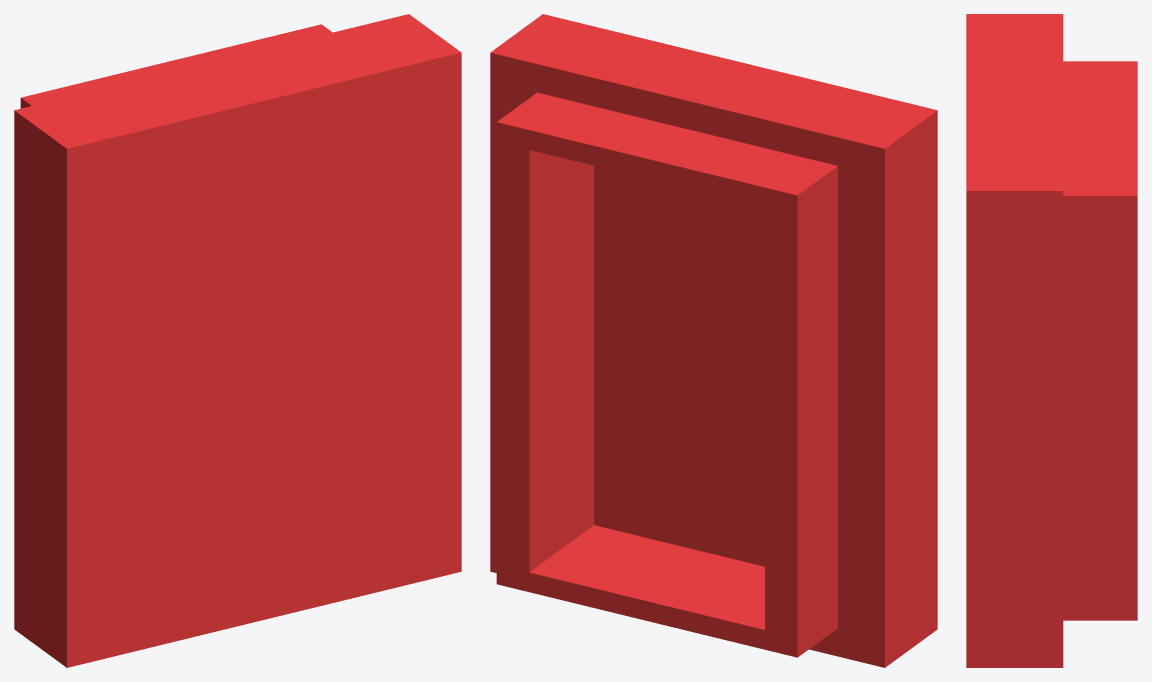
File: Itr_Obj_Fridge1_Bottom_Door_Right_03.FBX
3 renders of one model, left to right at view 1: azimuth 30°, elevation 25°; view 2: azimuth 150°, elevation 25°; view 3: azimuth 270°, elevation 25°, orthographic. The views are drawn at different scales.
Visible parts, largest first — view 1: Itr_Obj_Fridge1_Bottom_Door_Right_03; view 2: Itr_Obj_Fridge1_Bottom_Door_Right_03; view 3: Itr_Obj_Fridge1_Bottom_Door_Right_03.
Boxes of the visible parts, bbox=[...] form: Itr_Obj_Fridge1_Bottom_Door_Right_03: bbox=[14, 14, 461, 667]; Itr_Obj_Fridge1_Bottom_Door_Right_03: bbox=[490, 14, 937, 667]; Itr_Obj_Fridge1_Bottom_Door_Right_03: bbox=[966, 14, 1137, 667].
Size of the model in its own units: 22.45 by 28.21 by 9.19.
